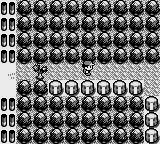main: (82, 60, 95, 76)
mo: (30, 64, 49, 80)
no-caminable: (17, 1, 160, 64), (15, 80, 144, 143), (48, 80, 144, 96), (1, 0, 15, 63), (144, 96, 160, 143), (1, 97, 15, 144)
